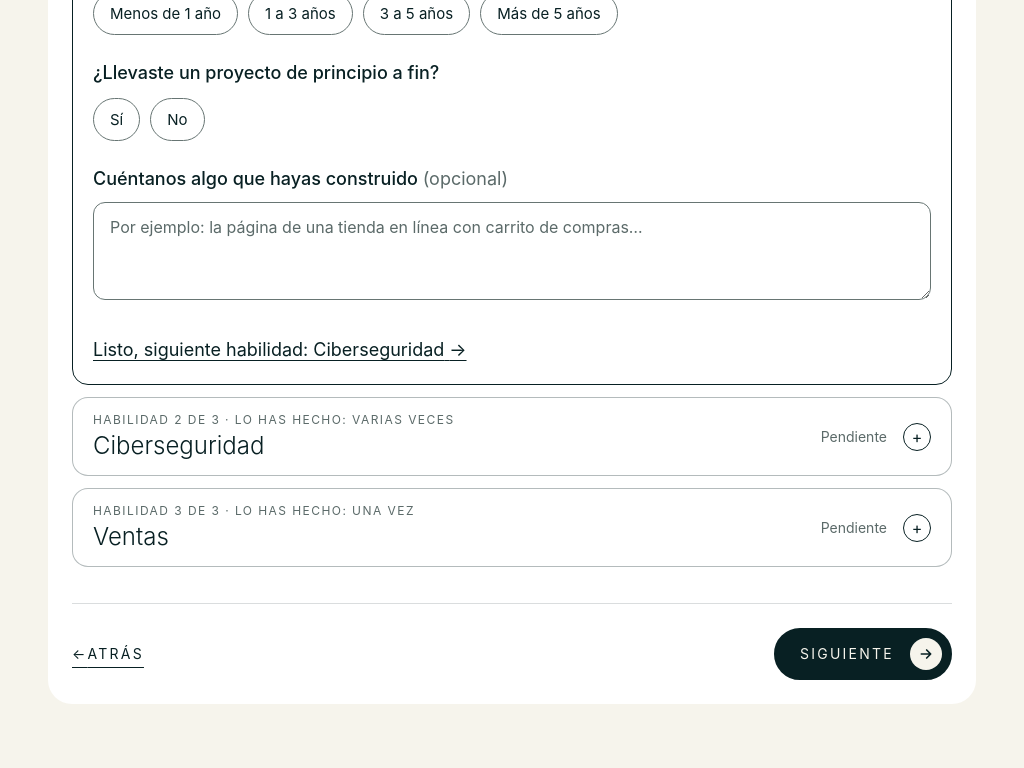
Test: ProfundizarView: guardar › si el servidor limita los intentos, lo avisa
(page scrolled)
Click the button "Siguiente" at (863, 654), box [774,628,952,680]
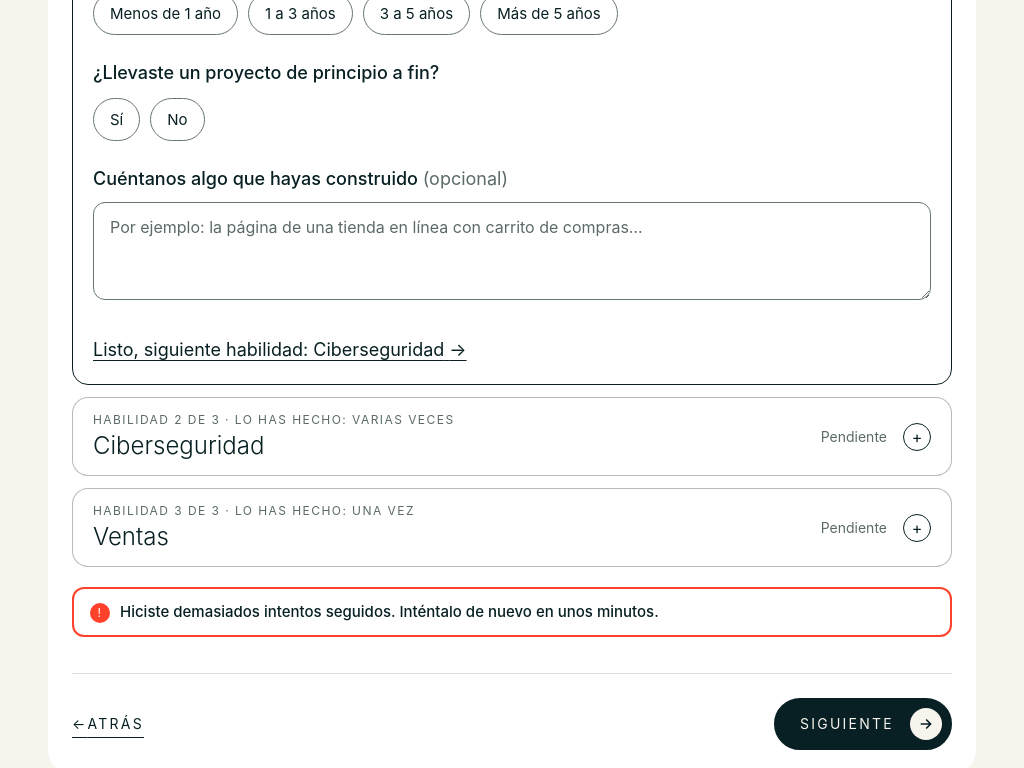
Expected: the message shows "Hiciste demasiados intentos seguidos. Inténtalo de nuevo en unos minutos.", [120,602,659,621]
